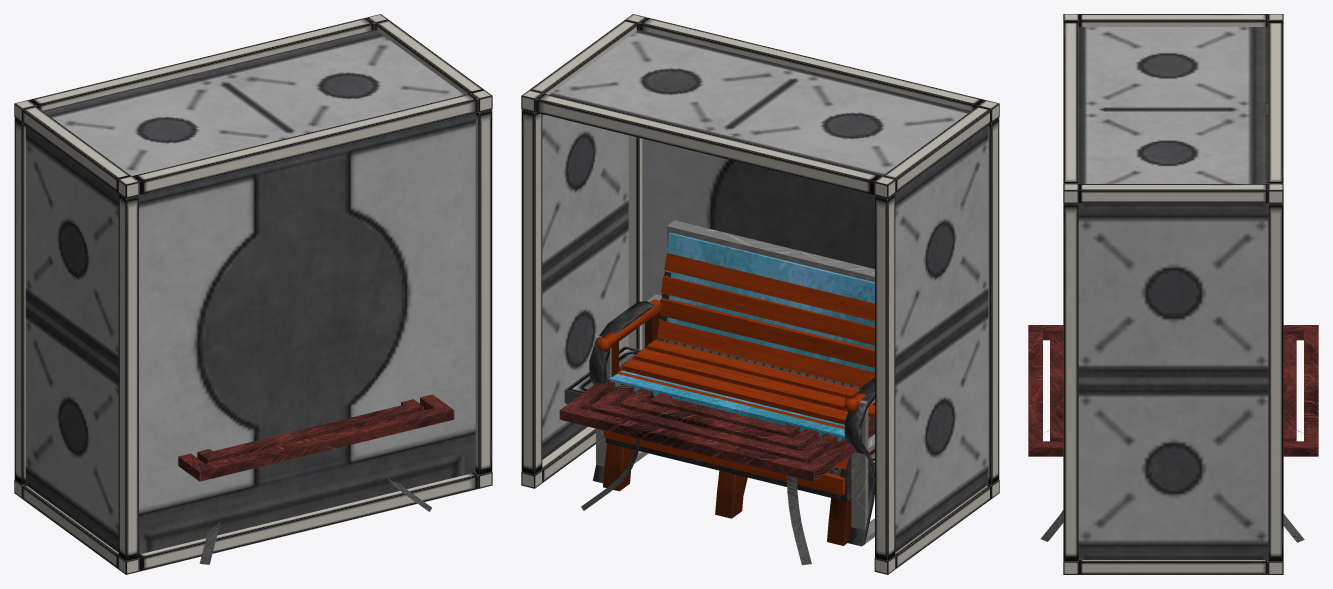
The model's file is benches_mesh.fbx.
3 renders of one model, left to right at view 1: azimuth 30°, elevation 25°; view 2: azimuth 150°, elevation 25°; view 3: azimuth 270°, elevation 25°, orthographic.
Visible parts, largest first — view 1: coverBench, squareBench; view 2: coverBench, woodBench, glassBench, squareBench, metalBench; view 3: coverBench, squareBench.
Boxes of the visible parts, <box> form: coverBench: <box>14,14,492,574</box>; squareBench: <box>178,394,454,564</box>; coverBench: <box>521,14,999,574</box>; woodBench: <box>597,247,874,545</box>; glassBench: <box>596,220,874,543</box>; squareBench: <box>559,347,874,565</box>; metalBench: <box>589,270,874,546</box>; coverBench: <box>1063,14,1283,574</box>; squareBench: <box>1028,325,1318,542</box>.
Bounding box in the file's own units: 310 × 315 × 216.
